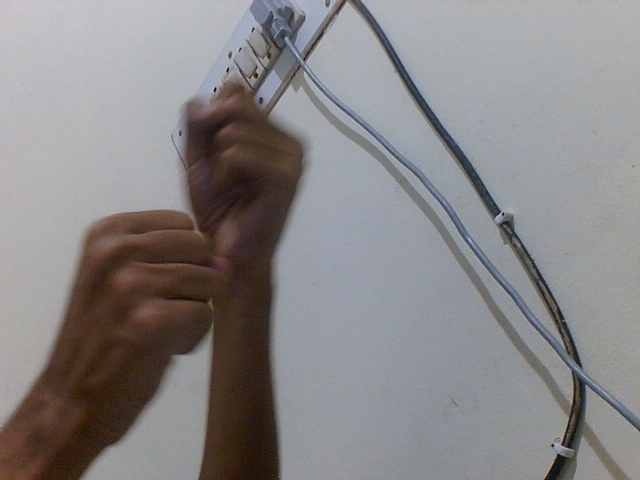hand: (40, 202, 226, 448), (179, 81, 307, 284)
